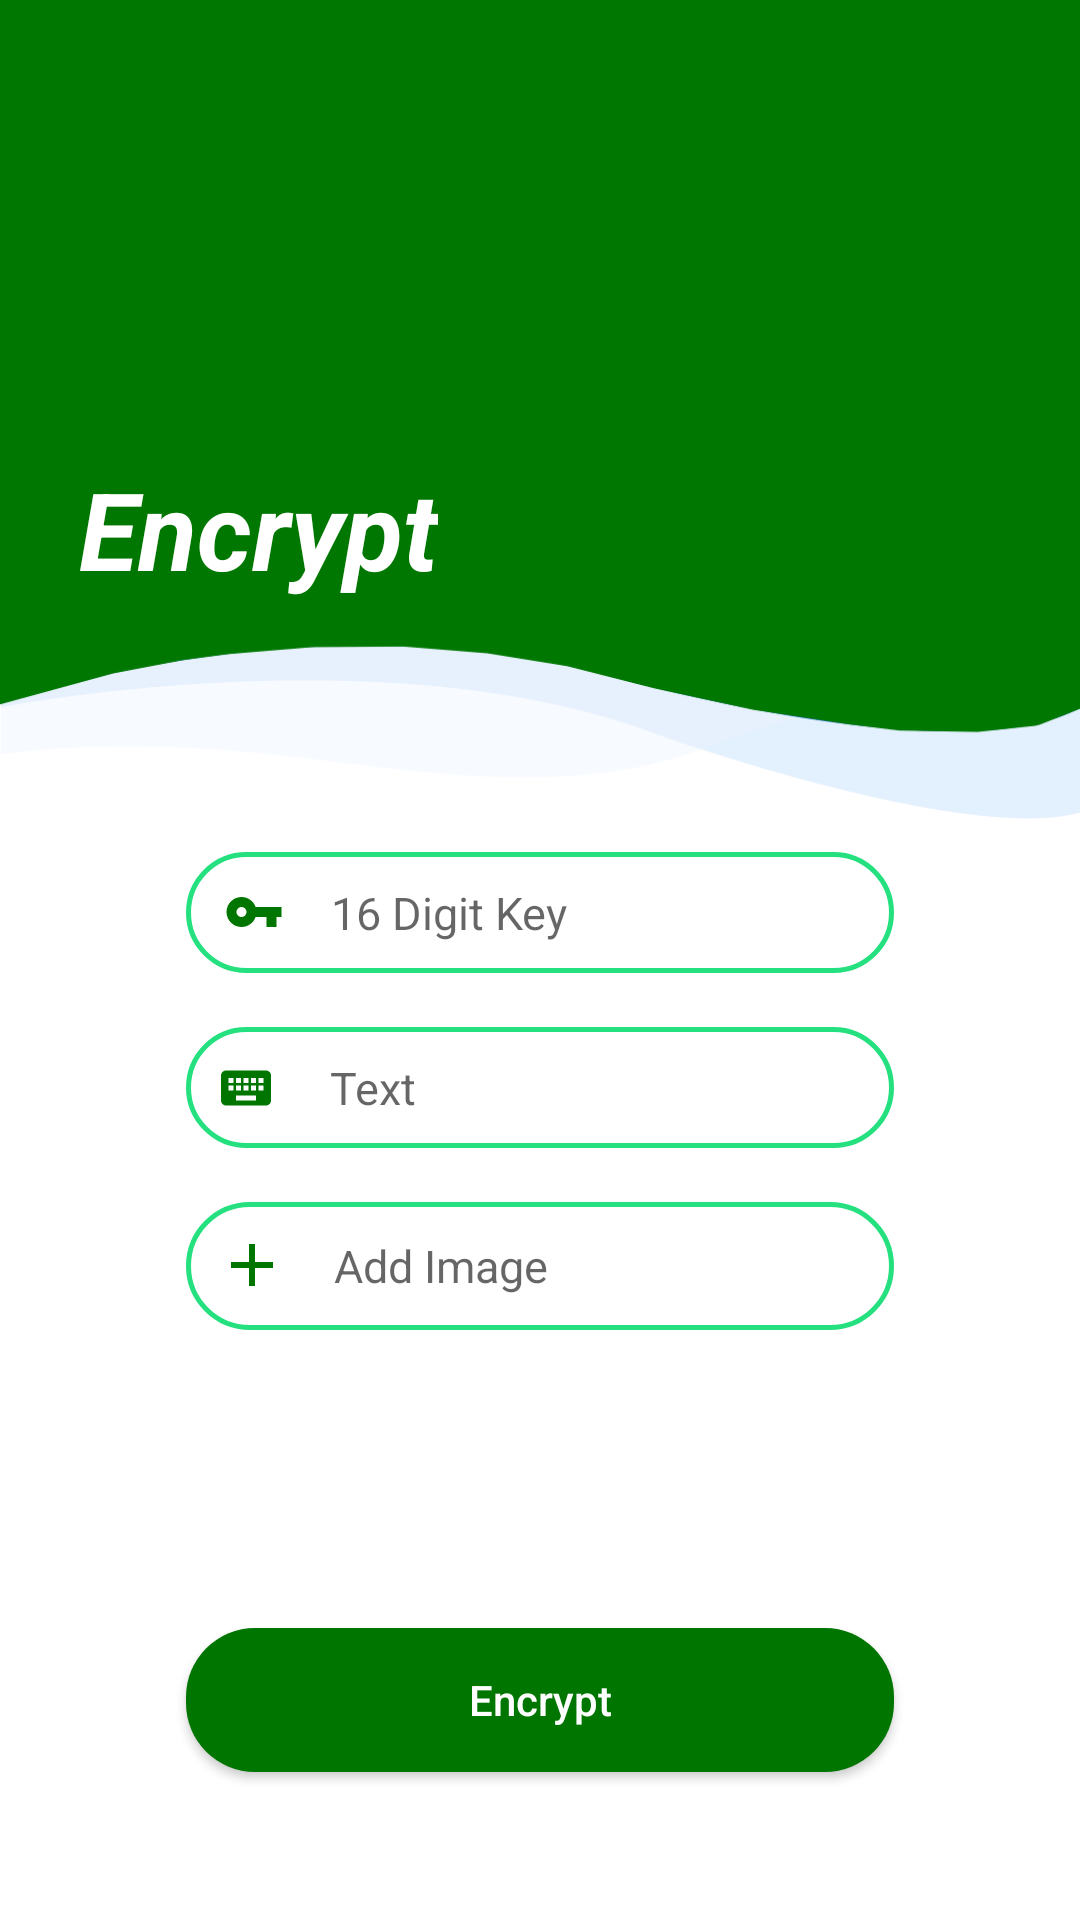

Screen size 1080x1920. Icon name, then its box in pixels as (x1, y1, x2, y2):
keyboard: (221, 1070, 271, 1106)
